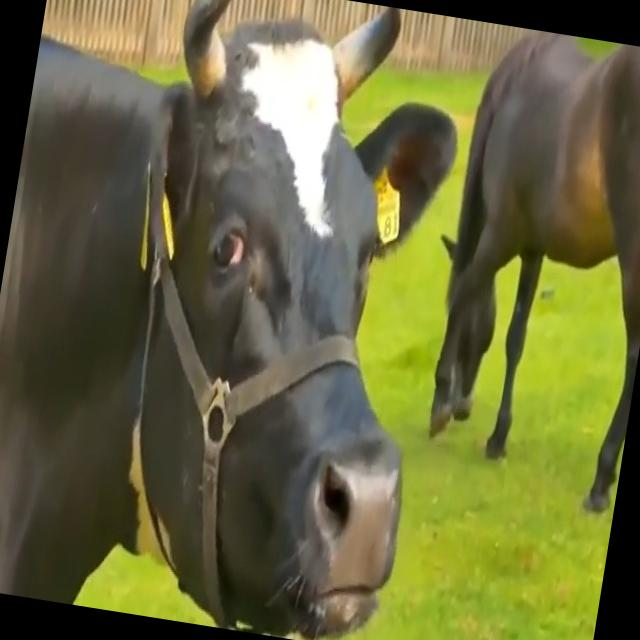cow: (0, 0, 456, 637)
